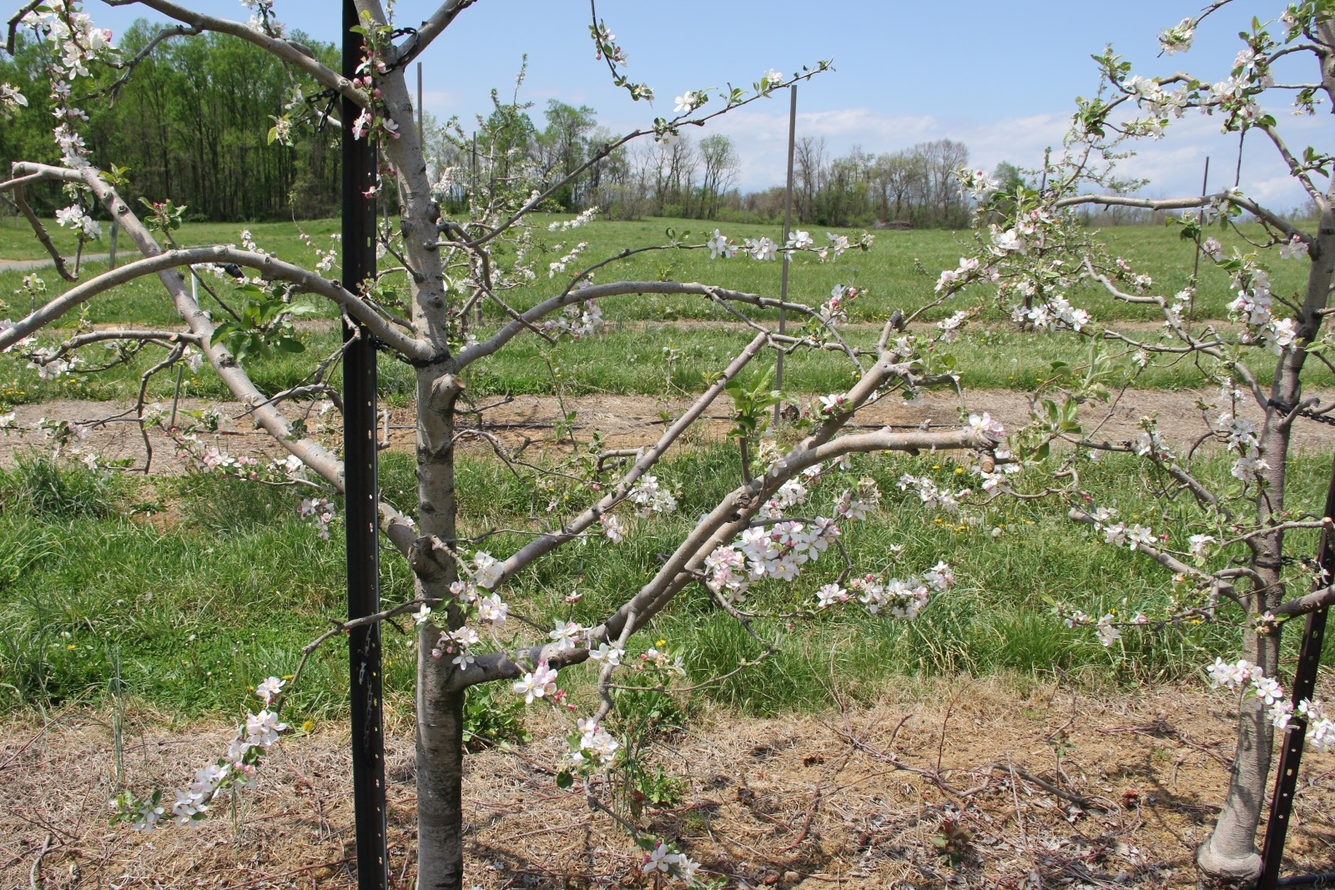flower: (704, 489, 879, 611), (1123, 46, 1266, 140), (1218, 261, 1297, 357), (132, 759, 233, 834), (227, 677, 290, 792), (1201, 657, 1283, 706), (1217, 412, 1269, 485), (63, 10, 117, 80), (858, 576, 929, 621), (1008, 294, 1092, 332), (450, 551, 506, 606), (750, 475, 809, 523), (896, 472, 961, 514), (577, 717, 620, 772), (550, 299, 608, 339), (631, 472, 678, 520), (56, 204, 104, 249), (1298, 696, 1335, 752), (514, 660, 558, 705), (642, 844, 708, 873), (990, 214, 1035, 255), (53, 123, 91, 170), (296, 498, 336, 541), (934, 258, 979, 294), (1103, 522, 1158, 551), (980, 464, 1021, 498), (477, 592, 511, 630), (274, 455, 318, 482), (1267, 699, 1300, 734), (923, 561, 959, 593), (817, 581, 855, 611), (968, 170, 1003, 202), (937, 311, 970, 344), (821, 284, 848, 324), (549, 616, 578, 653), (197, 448, 237, 473), (1096, 614, 1127, 646), (599, 513, 629, 546), (708, 229, 738, 260), (744, 238, 784, 261), (449, 626, 487, 650), (1161, 29, 1194, 56), (589, 643, 626, 666), (26, 360, 68, 380), (970, 412, 1005, 436), (1186, 534, 1217, 558), (827, 232, 860, 254), (786, 229, 818, 251), (892, 338, 917, 364), (1, 83, 28, 107), (1204, 238, 1230, 262), (182, 349, 206, 375), (22, 11, 53, 31), (352, 108, 371, 140), (1280, 240, 1310, 260), (47, 18, 71, 42), (765, 452, 788, 477), (819, 393, 847, 413), (413, 603, 437, 626), (1277, 9, 1299, 34), (1212, 375, 1232, 401), (1237, 103, 1262, 123), (801, 463, 824, 484), (452, 650, 475, 671), (216, 412, 240, 432), (674, 91, 696, 112), (241, 0, 273, 14), (1256, 69, 1275, 92), (248, 11, 267, 33), (763, 68, 785, 87), (352, 57, 370, 80), (83, 453, 101, 475), (1136, 432, 1152, 456), (1153, 430, 1171, 450), (1017, 279, 1035, 298), (600, 28, 617, 48), (1231, 390, 1248, 410), (53, 108, 85, 118), (54, 80, 72, 97), (564, 751, 589, 763), (1175, 287, 1196, 300), (986, 267, 1004, 282), (0, 319, 16, 335), (1093, 506, 1110, 521), (1035, 210, 1053, 224), (987, 245, 1008, 257), (839, 452, 853, 470), (383, 118, 399, 133), (47, 0, 65, 13), (634, 83, 652, 96), (1050, 319, 1066, 333), (21, 335, 39, 347), (320, 404, 339, 415), (577, 279, 594, 291), (1070, 611, 1088, 621), (53, 63, 69, 74), (617, 54, 629, 68), (269, 21, 280, 35), (995, 450, 1011, 459), (1171, 303, 1184, 314), (787, 250, 797, 262), (1095, 522, 1103, 536), (1063, 619, 1074, 629), (184, 346, 191, 357), (904, 334, 908, 338), (994, 449, 998, 452)
